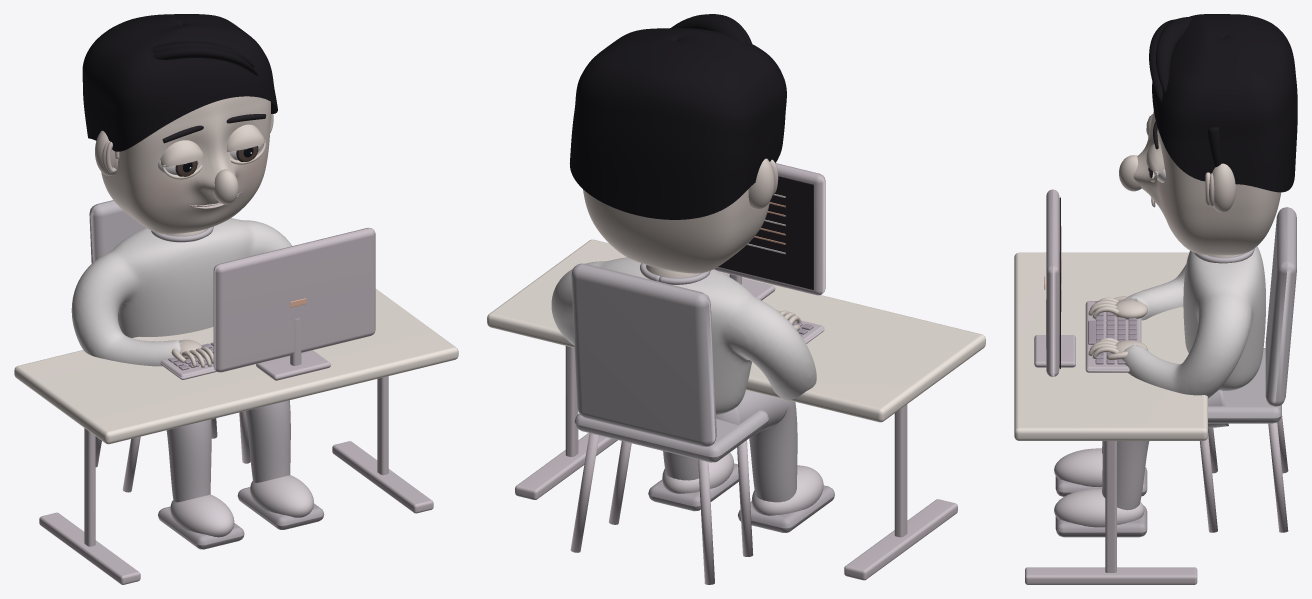
File: jhoandry-clay.glb
3 views of the same model, side by side, from view 1: azimuth 30°, elevation 25°; view 2: azimuth 150°, elevation 25°; view 3: azimuth 270°, elevation 25° (orthographic). The views are drawn at different scales.
Visible parts, largest first — view 1: Workstation Brushed slate metal, Desk top, HeadPivot Swept black hair, Continuous soft sweater, Sculpted oval face, Body Jacket lapels and trousers, Body Graphite shoes, Body Shoe soles, Workstation Jacket lapels and trousers, HeadPivot Tan hands and neck, EyeLeft Tan hands and neck, EyeRight Tan hands and neck (+1 smaller); view 2: HeadPivot Swept black hair, Workstation Jacket lapels and trousers, Desk top, Workstation Brushed slate metal, Continuous soft sweater, Sculpted oval face, Body Jacket lapels and trousers, Monitor display, Body Graphite shoes, Body Shoe soles, HeadPivot Tan hands and neck; view 3: Desk top, HeadPivot Swept black hair, Continuous soft sweater, Workstation Brushed slate metal, Sculpted oval face, Workstation Jacket lapels and trousers, Body Graphite shoes, Body Jacket lapels and trousers, Body Shoe soles, HeadPivot Tan hands and neck, Workstation Keyboard keys, HandLeft Tan hands and neck (+2 smaller).
Part boxes in pixels (x1,y1,x2,y2): Workstation Brushed slate metal: [39, 227, 433, 584]; Desk top: [14, 289, 458, 444]; HeadPivot Swept black hair: [82, 14, 277, 151]; Continuous soft sweater: [71, 218, 291, 366]; Sculpted oval face: [101, 96, 270, 234]; Body Jacket lapels and trousers: [151, 226, 290, 502]; Body Graphite shoes: [170, 475, 313, 537]; Body Shoe soles: [158, 487, 324, 549]; Workstation Jacket lapels and trousers: [89, 200, 145, 263]; HeadPivot Tan hands and neck: [95, 114, 273, 204]; EyeLeft Tan hands and neck: [160, 140, 204, 179]; EyeRight Tan hands and neck: [226, 124, 265, 164]; HeadPivot Swept black hair: [569, 14, 786, 219]; Workstation Jacket lapels and trousers: [571, 263, 768, 462]; Desk top: [487, 239, 985, 422]; Workstation Brushed slate metal: [515, 163, 957, 584]; Continuous soft sweater: [551, 257, 816, 414]; Sculpted oval face: [583, 189, 769, 273]; Body Jacket lapels and trousers: [640, 263, 797, 502]; Monitor display: [718, 176, 813, 289]; Body Graphite shoes: [662, 452, 823, 515]; Body Shoe soles: [648, 463, 834, 532]; HeadPivot Tan hands and neck: [748, 158, 778, 209]; Desk top: [1014, 252, 1207, 440]; HeadPivot Swept black hair: [1149, 14, 1297, 192]; Continuous soft sweater: [1122, 246, 1265, 398]; Workstation Brushed slate metal: [1025, 189, 1288, 584]; Sculpted oval face: [1133, 111, 1281, 255]; Workstation Jacket lapels and trousers: [1208, 207, 1296, 423]; Body Graphite shoes: [1054, 448, 1144, 527]; Body Jacket lapels and trousers: [1102, 248, 1254, 510]; Body Shoe soles: [1055, 467, 1147, 537]; HeadPivot Tan hands and neck: [1119, 155, 1236, 212]; Workstation Keyboard keys: [1088, 301, 1136, 364]; HandLeft Tan hands and neck: [1088, 296, 1147, 319].
Size of the model in its own units: 3.55 by 4.41 by 2.38.
